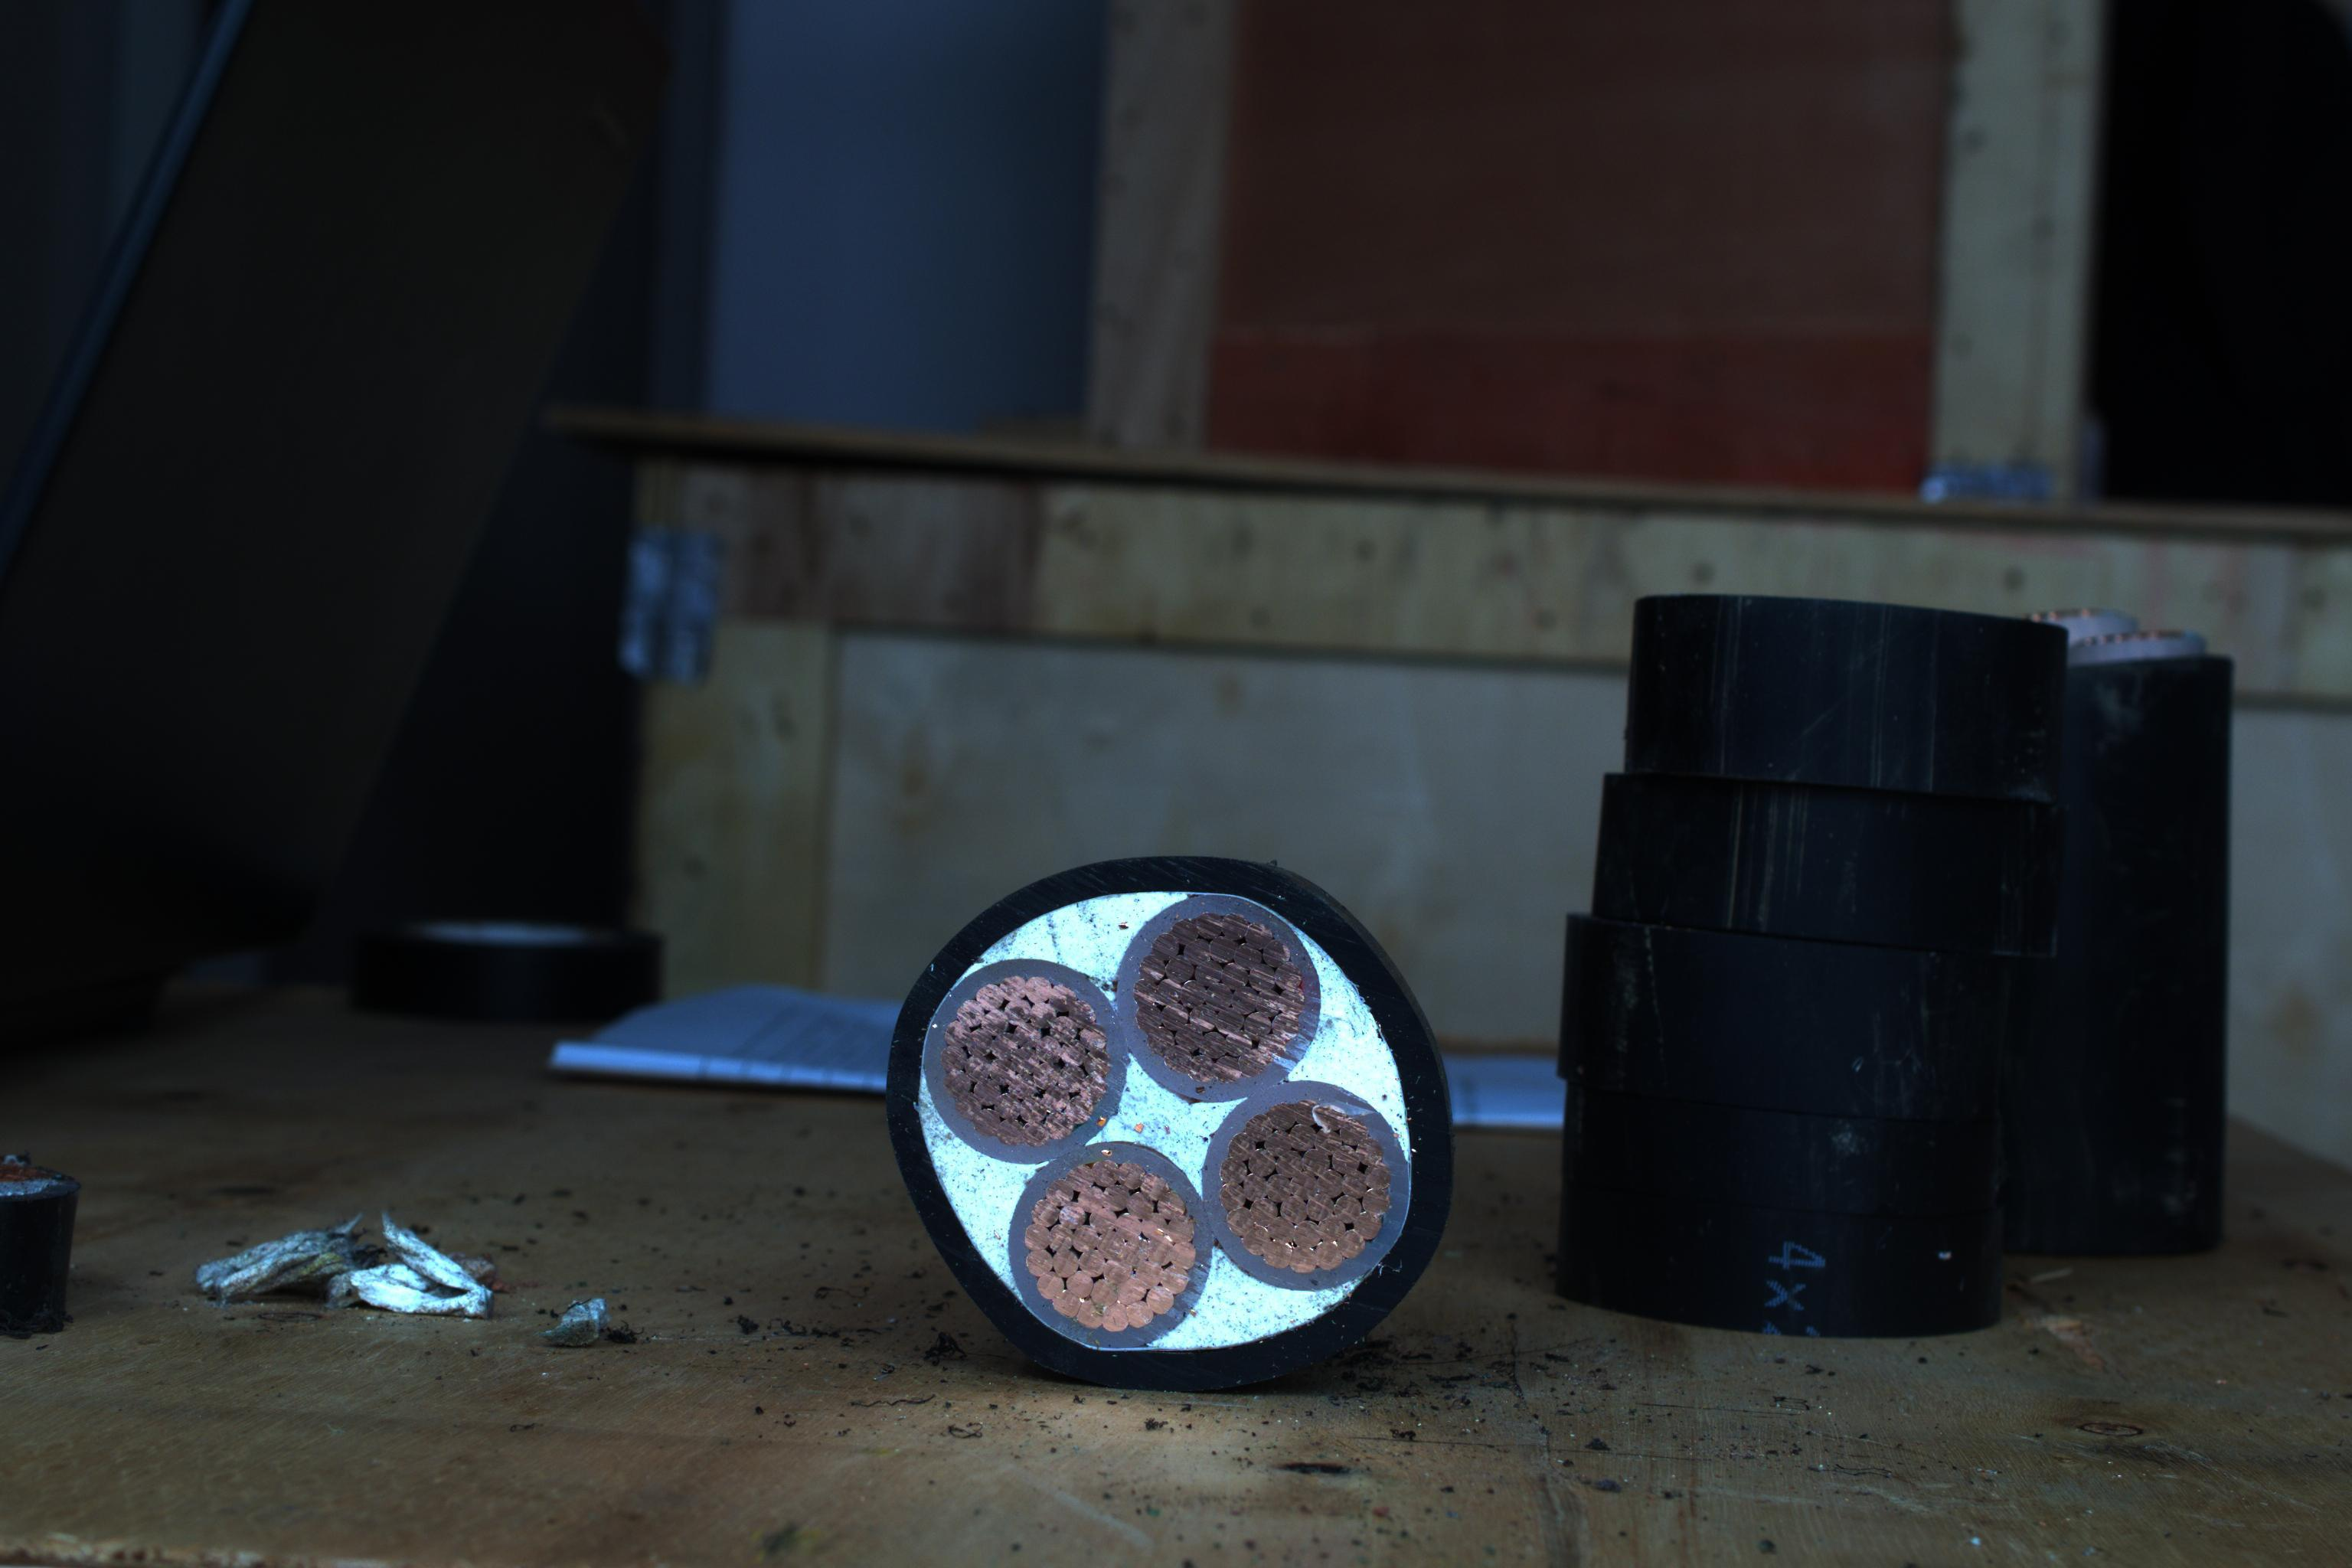YJV_0.6_1kV_4x240: (889, 856, 1451, 1403)
